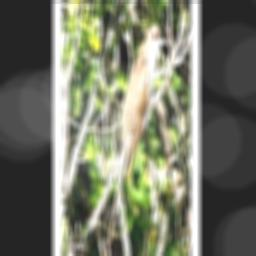Cuckoo: (109, 23, 166, 245)
